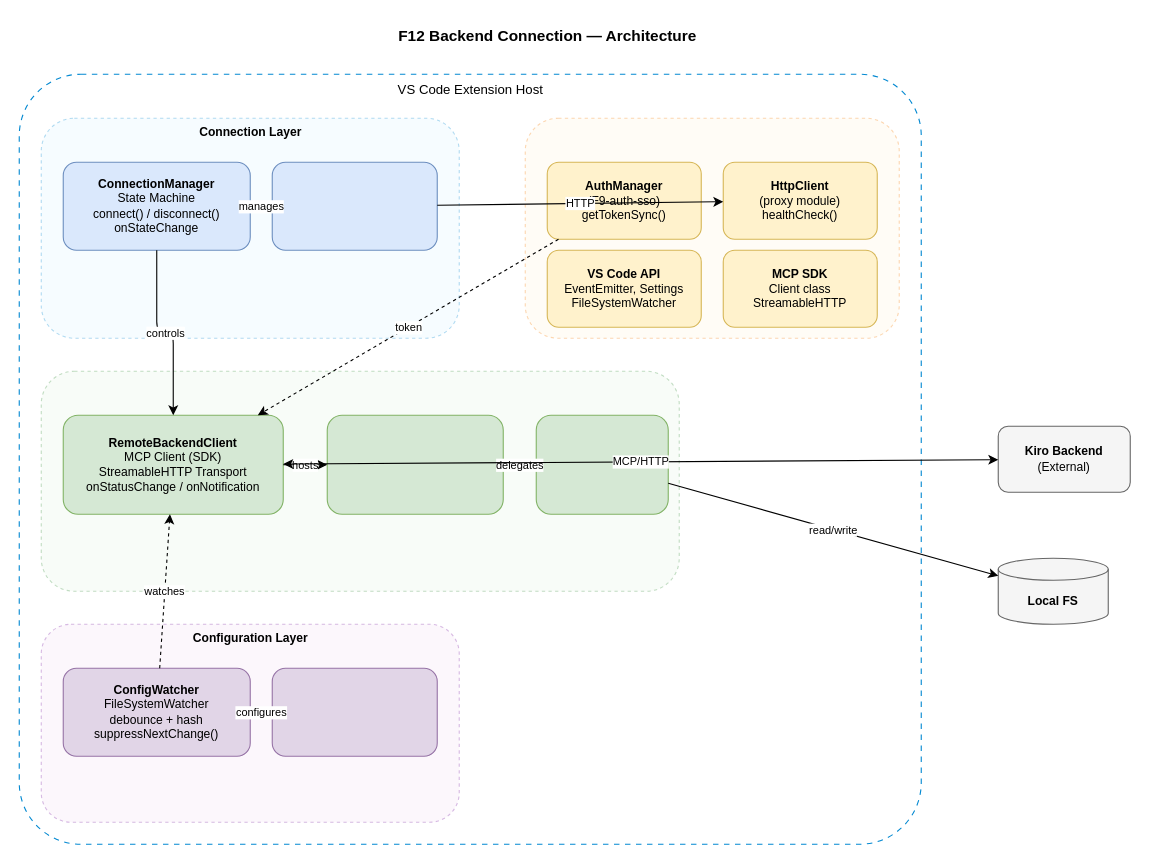
Image size: 1150x864. Some labels were removed from this diagram. Each missing label, with the box of its shape:
Dependencies: (524, 117, 899, 338)
HealthChecker setInterval polling onHealthFail callback: (271, 161, 437, 250)
Local Tools stream_write_file embed_image wrapToolArguments: (535, 414, 668, 514)
MCP Bridge Layer: (40, 370, 679, 591)
MCP Config Builder resolveConfig() writeMcpConfig() downloadVariant(): (271, 667, 437, 756)
Wrapper Server HTTP :9181 /mcp + /health JSON-RPC routing: (326, 414, 503, 514)
